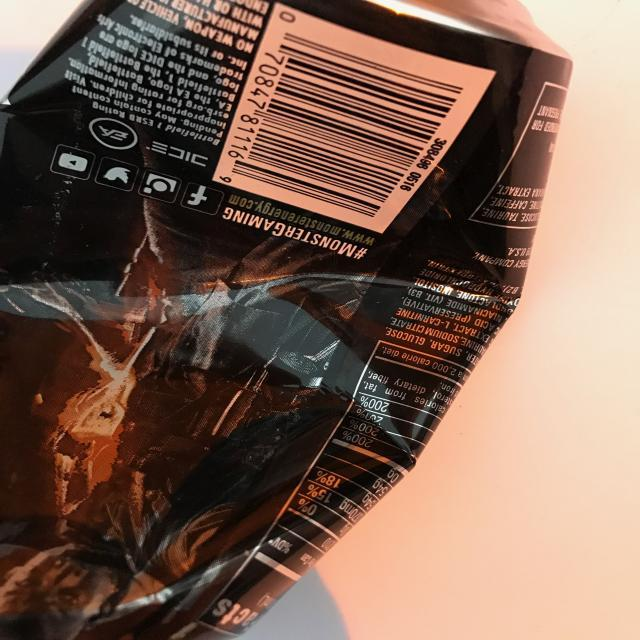metal: (1, 0, 574, 640)
